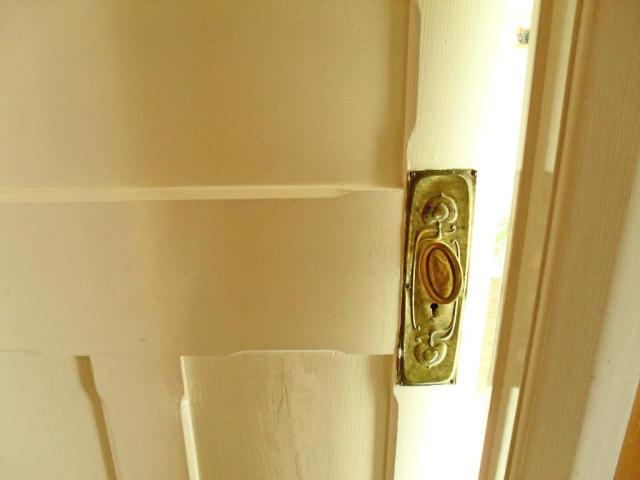Door-handle: (397, 167, 478, 386)
